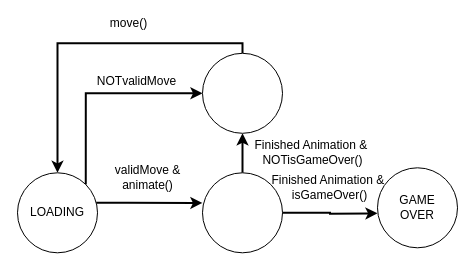
The diagram is 475 pixels wide and 271 high, and some of its shapes have lost their labels. Each missing label, with the centre of its shape:
"ANIMATING PIECE" goes at point 242,212.
"PLAYER CHOOSING" goes at point 242,92.
